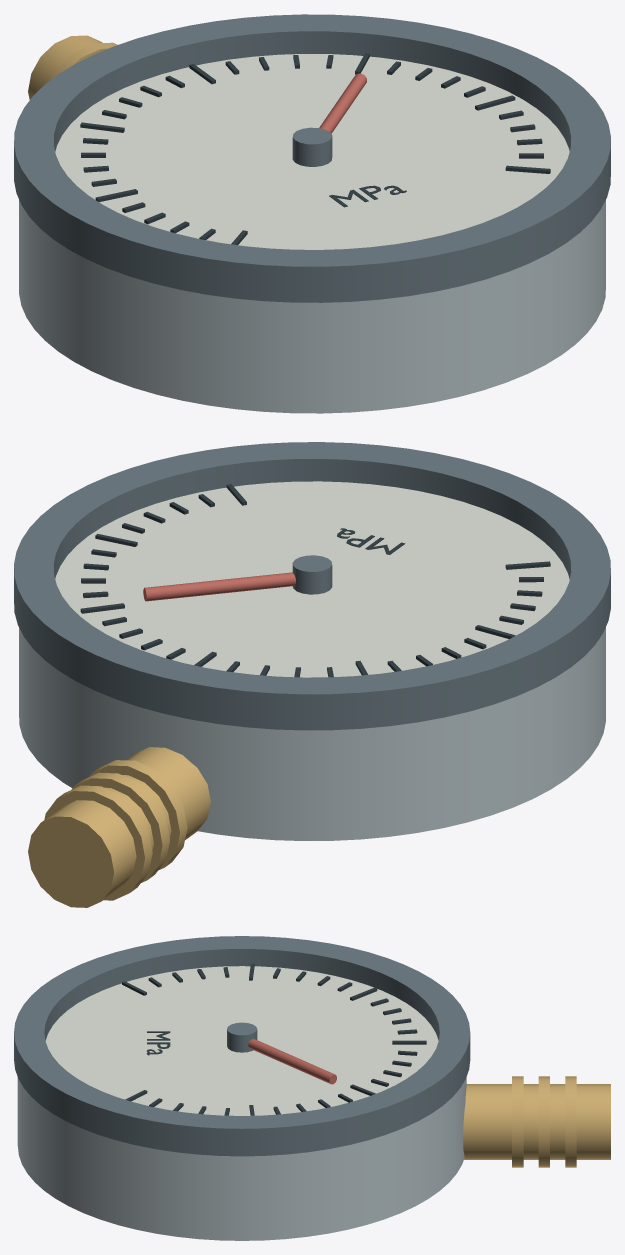
File: loot_gauge.glb
The picture shows the model from 3 angles, top to bottom: view 1: azimuth 30°, elevation 25°; view 2: azimuth 150°, elevation 25°; view 3: azimuth 270°, elevation 25°; orthographic projection. The views are drawn at different scales.
Parts seen in each view (by area): view 1: loot_gauge; view 2: loot_gauge; view 3: loot_gauge.
Part boxes in pixels (x1=…): loot_gauge: x1=14, y1=14, x2=610, y2=413; loot_gauge: x1=14, y1=442, x2=610, y2=907; loot_gauge: x1=14, y1=936, x2=610, y2=1240.
Bounding box in the file's own units: 0.12 × 0.039 × 0.157.
